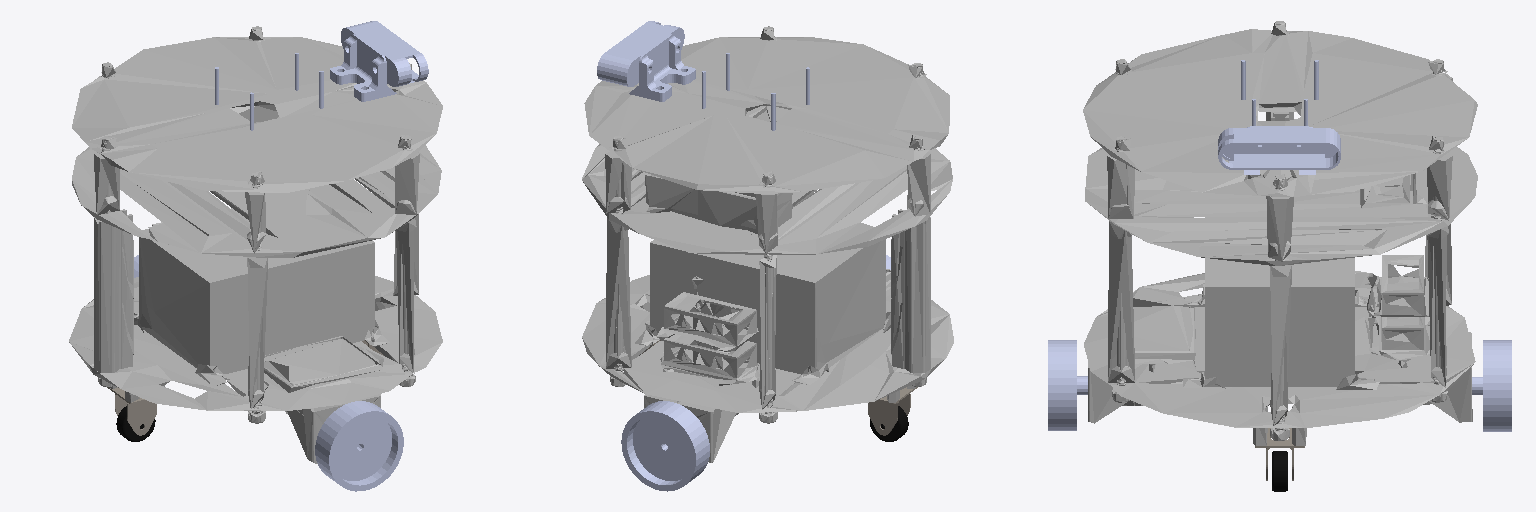
robot.urdf — amr_urdf_v3:
<robot
  name="amr_urdf_v3">
  <link
    name="base_link">
    <inertial>
      <origin
        xyz="-0.0010176740304066 -0.00160349371590989 0.0789280634320502"
        rpy="0 0 0" />
      <mass
        value="4.06425207718803" />
      <inertia
        ixx="0.011888264404141"
        ixy="2.19115724720298E-05"
        ixz="4.36799830555761E-06"
        iyy="0.0130181756354306"
        iyz="-5.43500412982131E-07"
        izz="0.018709872116092" />
    </inertial>
    <visual>
      <origin
        xyz="0 0 0" 
        rpy="0 0 0" />
      <geometry>
        <mesh
          filename="package://amr_urdf_v3/meshes/base_link.STL" />
      </geometry>
      <material
        name="">
        <color
          rgba="0.752941176470588 0.752941176470588 0.752941176470588 1" />
      </material>
    </visual>
    <collision>
      <origin
        xyz="0 0 0"
        rpy="0 0 0" />
      <geometry>
        <mesh
          filename="package://amr_urdf_v3/meshes/base_link.STL" />
      </geometry>
    </collision>
  </link>
  
  <!--
  <joint
    name="camera_joint"
    type="fixed">
    <origin
      xyz="0.1335 -0.00020556 0.2257"
      rpy="0 0 0" />
    <parent
      link="base_link" />
    <child
      link="camera_link" />
    <axis
      xyz="0 0 0" />
  </joint>
  -->
  
  
  <link
    name="right_motor_link">
    <inertial>
      <origin
        xyz="0.00798642968233698 -1.53544465665456E-18 0"
        rpy="0 0 0" />
      <mass
        value="0.0365559400762103" />
      <inertia
        ixx="3.01327681839806E-05"
        ixy="-8.20240559215681E-21"
        ixz="-5.35914288737187E-21"
        iyy="1.63979555484106E-05"
        iyz="6.00196961851436E-21"
        izz="1.63979555484106E-05" />
    </inertial>
    <visual>
      <origin
        xyz="0 0 0"
        rpy="0 0 0" />
      <geometry>
        <mesh
          filename="package://amr_urdf_v3/meshes/right_motor_link.STL" />
      </geometry>
      <material
        name="">
        <color
          rgba="0.792156862745098 0.819607843137255 0.933333333333333 1" />
      </material>
    </visual>
    <collision>
      <origin
        xyz="0 0 0"
        rpy="0 0 0" />
      <geometry>
        <mesh
          filename="package://amr_urdf_v3/meshes/right_motor_link.STL" />
      </geometry>
    </collision>
  </link>
  
  <joint
    name="right_motor_joint"
    type="continuous">
    <origin
      xyz="0 -0.15773 -0.0299999999999993"
      rpy="0 0 -1.57079632679489" />
    <parent
      link="base_link" />
    <child
      link="right_motor_link" />
    <axis
      xyz="-1 0 0" /> 
    <limit
      effort="300"
      velocity="300" />
  </joint>
  <link
    name="left_motor_link">
    <inertial>
      <origin
        xyz="0.00798642968233701 9.04521983301436E-13 -1.17392207066302E-13"
        rpy="0 0 0" />
      <mass
        value="0.0365559400762103" />
      <inertia
        ixx="3.01327681839806E-05"
        ixy="8.04028215445792E-22"
        ixz="1.87589665538517E-21"
        iyy="1.63979555484106E-05"
        iyz="9.47686957878753E-21"
        izz="1.63979555484106E-05" />
    </inertial>
    <visual>
      <origin
        xyz="0 0 0"
        rpy="0 0 0" />
      <geometry>
        <mesh
          filename="package://amr_urdf_v3/meshes/left_motor_link.STL" />
      </geometry>
      <material
        name="">
        <color
          rgba="0.792156862745098 0.819607843137255 0.933333333333333 1" />
      </material>
    </visual>
    <collision>
      <origin
        xyz="0 0 0"
        rpy="0 0 0" />
      <geometry>
        <mesh
          filename="package://amr_urdf_v3/meshes/left_motor_link.STL" />
      </geometry>
    </collision>
  </link>
  <joint
    name="left_motor_joint"
    type="continuous">
    <origin
      xyz="0 0.157729999998498 -0.0300000000003936"
      rpy="0 0 1.5707963267949" />
    <parent
      link="base_link" />
    <child
      link="left_motor_link" />
    <axis
      xyz="1 0 0" />
    <limit
      effort="300"
      velocity="300" />
  </joint>


<gazebo>
  <plugin name="diff_drive" filename="libgazebo_ros_diff_drive.so">
    <ros>
      <namespace>/demo</namespace>
    </ros>

    <left_joint>left_motor_joint</left_joint>
    <right_joint>right_motor_joint</right_joint>

    <wheel_separation>0.35</wheel_separation> 
    <wheel_diameter>0.12</wheel_diameter>

    <max_wheel_torque>20</max_wheel_torque>
    <max_wheel_acceleration>1.0</max_wheel_acceleration>

    <publish_odom>true</publish_odom>
    <publish_odom_tf>true</publish_odom_tf> 
    <publish_wheel_tf>true</publish_wheel_tf>

    <odometry_frame>odom</odometry_frame>
    <robot_base_frame>base_link</robot_base_frame>
  </plugin>
</gazebo>


<ros2_control name="ros2_control_diffdrive" type="system">
        <hardware>
            <plugin>ros2_control_demo_example_2/DiffBotSystemHardware</plugin>
            <param name="left_wheel_name">left_motor_joint</param> 
            <param name="right_wheel_name">right_motor_joint</param> 
            <param name="enc_l_counts_per_rev">354</param> <!--380.. OR 355-->
            <param name="enc_r_counts_per_rev">348</param> <!--366-->
        </hardware> 

        <joint name = "left_motor_joint">
            <command_interface name = "velocity">
                <param name = "min">-14</param> 
                <param name = "max">14</param>
            </command_interface>
            <state_interface name = "position"/>
            <state_interface name = "velocity"/> 
        </joint>

        <joint name = "right_motor_joint">
            <command_interface name = "velocity">
                <param name = "min">-14</param> <!--38-->
                <param name = "max">14</param>  
            </command_interface>
            <state_interface name = "position"/>
            <state_interface name = "velocity"/>
        </joint>
  </ros2_control>


  <link
    name="back_caster_swivel_link">
    <inertial>
      <origin
        xyz="1.38777878078145E-17 2.42739208054735E-17 -0.00859163496952492"
        rpy="0 0 0" />
      <mass
        value="0.0342071620853004" />
      <inertia
        ixx="5.59165765821269E-06"
        ixy="5.99062099685569E-14"
        ixz="2.42813785033998E-21"
        iyy="4.62417593549193E-06"
        iyz="1.20669683067244E-20"
        izz="6.14879674609405E-06" />
    </inertial>
    <visual>
      <origin
        xyz="0 0 0"
        rpy="0 0 0" />
      <geometry>
        <mesh
          filename="package://amr_urdf_v3/meshes/back_caster_swivel_link.STL" />
      </geometry>
      <material
        name="">
        <color
          rgba="0.647058823529412 0.619607843137255 0.588235294117647 1" />
      </material>
    </visual>
    <collision>
      <origin
        xyz="0 0 0"
        rpy="0 0 0" />
      <geometry>
        <mesh
          filename="package://amr_urdf_v3/meshes/back_caster_swivel_link.STL" />
      </geometry>
    </collision>
  </link>
  <joint
    name="back_caster_swivel_joint"
    type="continuous">
    <origin
      xyz="-0.113 0 -0.02125"
      rpy="0 0 0" />
    <parent
      link="base_link" />
    <child
      link="back_caster_swivel_link" />
    <axis
      xyz="0 0 1" />
  </joint>
  <link
    name="back_caster_wheel_link">
    <inertial>
      <origin
        xyz="-1.38777878078145E-17 -1.02104301768038E-18 0"
        rpy="0 0 0" />
      <mass
        value="0.00910029124350843" />
      <inertia
        ixx="6.69349690057285E-07"
        ixy="-3.53100216598249E-21"
        ixz="1.25313985392662E-23"
        iyy="1.10476081341001E-06"
        iyz="1.70394260036174E-22"
        izz="6.69349690057285E-07" />
    </inertial>
    <visual>
      <origin
        xyz="0 0 0"
        rpy="0 0 0" />
      <geometry>
        <mesh
          filename="package://amr_urdf_v3/meshes/back_caster_wheel_link.STL" />
      </geometry>
      <material
        name="">
        <color
          rgba="0.101960784313725 0.101960784313725 0.101960784313725 1" />
      </material>
    </visual>
    <collision>
      <origin
        xyz="0 0 0"
        rpy="0 0 0" />
      <geometry>
        <mesh
          filename="package://amr_urdf_v3/meshes/back_caster_wheel_link.STL" />
      </geometry>
    </collision>
  </link>
  <joint
    name="back_caster_wheel_joint"
    type="continuous">
    <origin
      xyz="0 0 -0.02825"
      rpy="0 0 0" />
    <parent
      link="back_caster_swivel_link" />
    <child
      link="back_caster_wheel_link" />
    <axis
      xyz="0 -1 0" />
  </joint>
  <link
    name="front_caster_swivel_link">
    <inertial>
      <origin
        xyz="-1.38777878078145E-17 -1.11242347561298E-17 -0.00859163496952491"
        rpy="0 0 0" />
      <mass
        value="0.0342071620853004" />
      <inertia
        ixx="5.59165765821268E-06"
        ixy="5.99061993031957E-14"
        ixz="-1.9198369614391E-21"
        iyy="4.62417593549192E-06"
        iyz="-1.1528313380055E-20"
        izz="6.14879674609405E-06" />
    </inertial>
    <visual>
      <origin
        xyz="0 0 0"
        rpy="0 0 0" />
      <geometry>
        <mesh
          filename="package://amr_urdf_v3/meshes/front_caster_swivel_link.STL" />
      </geometry>
      <material
        name="">
        <color
          rgba="0.647058823529412 0.619607843137255 0.588235294117647 1" />
      </material>
    </visual>
    <collision>
      <origin
        xyz="0 0 0"
        rpy="0 0 0" />
      <geometry>
        <mesh
          filename="package://amr_urdf_v3/meshes/front_caster_swivel_link.STL" />
      </geometry>
    </collision>
  </link>
  <joint
    name="front_caster_swivel_joint"
    type="continuous">
    <origin
      xyz="0.113 0 -0.02125"
      rpy="0 0 0" />
    <parent
      link="base_link" />
    <child
      link="front_caster_swivel_link" />
    <axis
      xyz="0 0 1" />
  </joint>
  <link
    name="front_caster_wheel_link">
    <inertial>
      <origin
        xyz="0 -9.12589751828138E-20 0"
        rpy="0 0 0" />
      <mass
        value="0.00910029124350843" />
      <inertia
        ixx="6.69349690057285E-07"
        ixy="3.95110387068532E-22"
        ixz="9.85766645615961E-25"
        iyy="1.10476081341001E-06"
        iyz="1.68736474715625E-22"
        izz="6.69349690057285E-07" />
    </inertial>
    <visual>
      <origin
        xyz="0 0 0"
        rpy="0 0 0" />
      <geometry>
        <mesh
          filename="package://amr_urdf_v3/meshes/front_caster_wheel_link.STL" />
      </geometry>
      <material
        name="">
        <color
          rgba="0.101960784313725 0.101960784313725 0.101960784313725 1" />
      </material>
    </visual>
    <collision>
      <origin
        xyz="0 0 0"
        rpy="0 0 0" />
      <geometry>
        <mesh
          filename="package://amr_urdf_v3/meshes/front_caster_wheel_link.STL" />
      </geometry>
    </collision>
  </link>
  <joint
    name="front_caster_wheel_joint"
    type="continuous">
    <origin
      xyz="0 0 -0.02825"
      rpy="0 0 0" />
    <parent
      link="front_caster_swivel_link" />
    <child
      link="front_caster_wheel_link" />
    <axis
      xyz="0 -1 0" />
  </joint>


  <link
    name="imu_link">
    <inertial>
      <origin
        xyz="8.83832534712359E-19 -1.68731665717814E-18 -0.00102130965190103"
        rpy="0 0 0" />
      <mass
        value="0.00514746084847653" />
      <inertia
        ixx="7.93474008155527E-07"
        ixy="6.139231108792E-23"
        ixz="-1.51428536771307E-23"
        iyy="1.00625209716698E-06"
        iyz="-6.83596985419307E-24"
        izz="1.78297175236149E-06" />
    </inertial>
    <visual>
      <origin
        xyz="0 0 0"
        rpy="0 0 0" />
      <geometry>
        <mesh
          filename="package://amr_urdf_v3/meshes/imu_link.STL" />
      </geometry>
      <material
        name="">
        <color
          rgba="0.286274509803922 0.662745098039216 0.329411764705882 1" />
      </material>
    </visual>
    <collision>
      <origin
        xyz="0 0 0"
        rpy="0 0 0" />
      <geometry>
        <mesh
          filename="package://amr_urdf_v3/meshes/imu_link.STL" />
      </geometry>
    </collision>
  </link>

  <joint
    name="imu_joint"
    type="fixed">
    <origin
      xyz="0 0 0"
      rpy="0 0 0" />
    <parent
      link="base_link" />
    <child
      link="imu_link" />
    <axis
      xyz="0 0 0" />
  </joint>


 <gazebo reference="imu_link">
  <sensor name="imu_sensor" type="imu">
   <plugin filename="libgazebo_ros_imu_sensor.so" name="imu_plugin">
      <ros>
        <namespace>/demo</namespace>
        <remapping>~/out:=imu</remapping>
      </ros>
      <initial_orientation_as_reference>false</initial_orientation_as_reference>
    </plugin>
    <always_on>true</always_on>
    <update_rate>100</update_rate>
    <visualize>true</visualize>
    <imu>
      <angular_velocity>
        <x>
          <noise type="gaussian">
            <mean>0.0</mean>
            <stddev>2e-4</stddev>
            <bias_mean>0.0000075</bias_mean>
            <bias_stddev>0.0000008</bias_stddev>
          </noise>
        </x>
        <y>
          <noise type="gaussian">
            <mean>0.0</mean>
            <stddev>2e-4</stddev>
            <bias_mean>0.0000075</bias_mean>
            <bias_stddev>0.0000008</bias_stddev>
          </noise>
        </y>
        <z>
          <noise type="gaussian">
            <mean>0.0</mean>
            <stddev>2e-4</stddev>
            <bias_mean>0.0000075</bias_mean>
            <bias_stddev>0.0000008</bias_stddev>
          </noise>
        </z>
      </angular_velocity>
      <linear_acceleration>
        <x>
          <noise type="gaussian">
            <mean>0.0</mean>
            <stddev>1.7e-2</stddev>
            <bias_mean>0.1</bias_mean>
            <bias_stddev>0.001</bias_stddev>
          </noise>
        </x>
        <y>
          <noise type="gaussian">
            <mean>0.0</mean>
            <stddev>1.7e-2</stddev>
            <bias_mean>0.1</bias_mean>
            <bias_stddev>0.001</bias_stddev>
          </noise>
        </y>
        <z>
          <noise type="gaussian">
            <mean>0.0</mean>
            <stddev>1.7e-2</stddev>
            <bias_mean>0.1</bias_mean>
            <bias_stddev>0.001</bias_stddev>
          </noise>
        </z>
      </linear_acceleration>
    </imu>
  </sensor>
</gazebo>





  <link
    name="lidar_link">
    <inertial>
      <origin
        xyz="-0.0119599422907501 0.000420457853612401 -0.0146806721706361"
        rpy="0 0 0" />
      <mass
        value="0.0729132747388752" />
      <inertia
        ixx="1.81540410268974E-05"
        ixy="-3.13526570959607E-07"
        ixz="3.25184596662622E-07"
        iyy="2.39750540545773E-05"
        iyz="1.07178388102884E-08"
        izz="3.9435616182922E-05" />
    </inertial>
    <visual>
      <origin
        xyz="0 0 0"
        rpy="0 0 0" />
      <geometry>
        <mesh
          filename="package://amr_urdf_v3/meshes/lidar_link.STL" />
      </geometry>
      <material
        name="">
        <color
          rgba="0.792156862745098 0.819607843137255 0.933333333333333 1" />
      </material>
    </visual>
    <collision>
      <origin
        xyz="0 0 0"
        rpy="0 0 0" />
      <geometry>
        <mesh
          filename="package://amr_urdf_v3/meshes/lidar_link.STL" />
      </geometry>
    </collision>
  </link>

  <joint
    name="lidar_joint"
    type="fixed">
    <origin
      xyz="0.00699999999889178 0 0.25549999999896"
      rpy="0 0 3.1416" />
    <parent
      link="base_link" />
    <child
      link="lidar_link" />
    <axis
      xyz="0 0 0" />
  </joint>


<gazebo reference="lidar_link">
  <sensor name="laser" type="ray">
    <pose>0 0 0 0 0 0</pose>  
    <!-- <always_on>true</always_on> -->
    <update_rate>20</update_rate>
    <visualize>true</visualize>
    <ray>
      <scan>
        <horizontal>
          <samples>720</samples>
          <resolution>1</resolution>
          <min_angle>-3.1415926</min_angle>
          <max_angle>3.1415926</max_angle>
        </horizontal> 
      </scan>
      <range>
        <min>0.1</min>
        <max>10.0</max>
        <resolution>0.01</resolution>  
      </range>   
     <!-- <noise>   
        <type>gaussian</type>  
        <mean>0.0</mean>
        <stddev>0.01</stddev>
      </noise> -->
    </ray> 
    <plugin name="gazebo_ros_laser_controller" filename="libgazebo_ros_ray_sensor.so">
      <ros>
        <!-- <namespace>/demo</namespace> --> 
        <remapping>~/out:=scan</remapping>
        <!-- <topicName>scan</topicName>  -->
      </ros> 
      <output_type>sensor_msgs/LaserScan</output_type>      
      <frame_name>lidar_link</frame_name>
    </plugin>   
  </sensor>
</gazebo> 
 






  <link
    name="camera_link">
    <inertial>
      <origin
        xyz="-0.0250710998831694 0.000537936695328088 -0.00614946362916749"
        rpy="0 0 0" />
      <mass
        value="0.0313336679699393" />
      <inertia
        ixx="2.27202820665302E-05"
        ixy="-1.32703422540569E-07"
        ixz="-2.86292130544785E-07"
        iyy="4.32636813211046E-06"
        iyz="-4.54549299258422E-09"
        izz="2.21282712614926E-05" />
    </inertial>
    <visual>
      <origin
        xyz="0 0 0"
        rpy="0 0 0" />
      <geometry>
        <mesh
          filename="package://amr_urdf_v3/meshes/camera_link.STL" />
      </geometry>
      <material
        name="">
        <color
          rgba="0.792156862745098 0.819607843137255 0.933333333333333 1" />
      </material>
    </visual>
    <collision>
      <origin
        xyz="0 0 0"
        rpy="0 0 0" />
      <geometry>
        <mesh
          filename="package://amr_urdf_v3/meshes/camera_link.STL" />
      </geometry>
    </collision>
  </link>
  <joint
    name="camera_joint"
    type="fixed">
    <origin
      xyz="0.1335 -0.00020556 0.2257"
      rpy="0 0 0" />
    <parent
      link="base_link" />
    <child
      link="camera_link" />
    <axis
      xyz="0 0 0" />
  </joint>
</robot>

--- Facts derived from the render (not from the file) ---
Views: 3 orthographic renders of the robot side by side, from view 1: azimuth 30°, elevation 25°; view 2: azimuth 150°, elevation 25°; view 3: azimuth 270°, elevation 25°.
Robot: amr_urdf_v3 — 10 links, 9 joints (6 continuous, 3 fixed); root link base_link; default pose: every joint at zero.
Visible links, largest first — view 1: base_link, right_motor_link, camera_link, back_caster_swivel_link, lidar_link; view 2: base_link, left_motor_link, camera_link, back_caster_swivel_link, lidar_link; view 3: base_link, camera_link, left_motor_link, right_motor_link, front_caster_wheel_link, lidar_link.
Boxes of the visible links, left/top/right/bottom form: base_link: left=69, top=26, right=442, bottom=463; right_motor_link: left=315, top=401, right=403, bottom=491; camera_link: left=330, top=21, right=428, bottom=101; back_caster_swivel_link: left=107, top=387, right=156, bottom=435; lidar_link: left=215, top=53, right=323, bottom=130; base_link: left=582, top=26, right=953, bottom=462; left_motor_link: left=621, top=401, right=709, bottom=491; camera_link: left=597, top=21, right=695, bottom=101; back_caster_swivel_link: left=868, top=387, right=917, bottom=435; lidar_link: left=702, top=53, right=809, bottom=130; base_link: left=1083, top=21, right=1477, bottom=445; camera_link: left=1218, top=126, right=1340, bottom=174; left_motor_link: left=1472, top=340, right=1511, bottom=431; right_motor_link: left=1048, top=340, right=1087, bottom=430; front_caster_wheel_link: left=1272, top=451, right=1287, bottom=491; lidar_link: left=1241, top=60, right=1318, bottom=125.
Size in the robot's own frame: 0.3017 by 0.3554 by 0.3022 metres.
10 mesh visuals loaded from 10 distinct referenced files (10 binary STL).